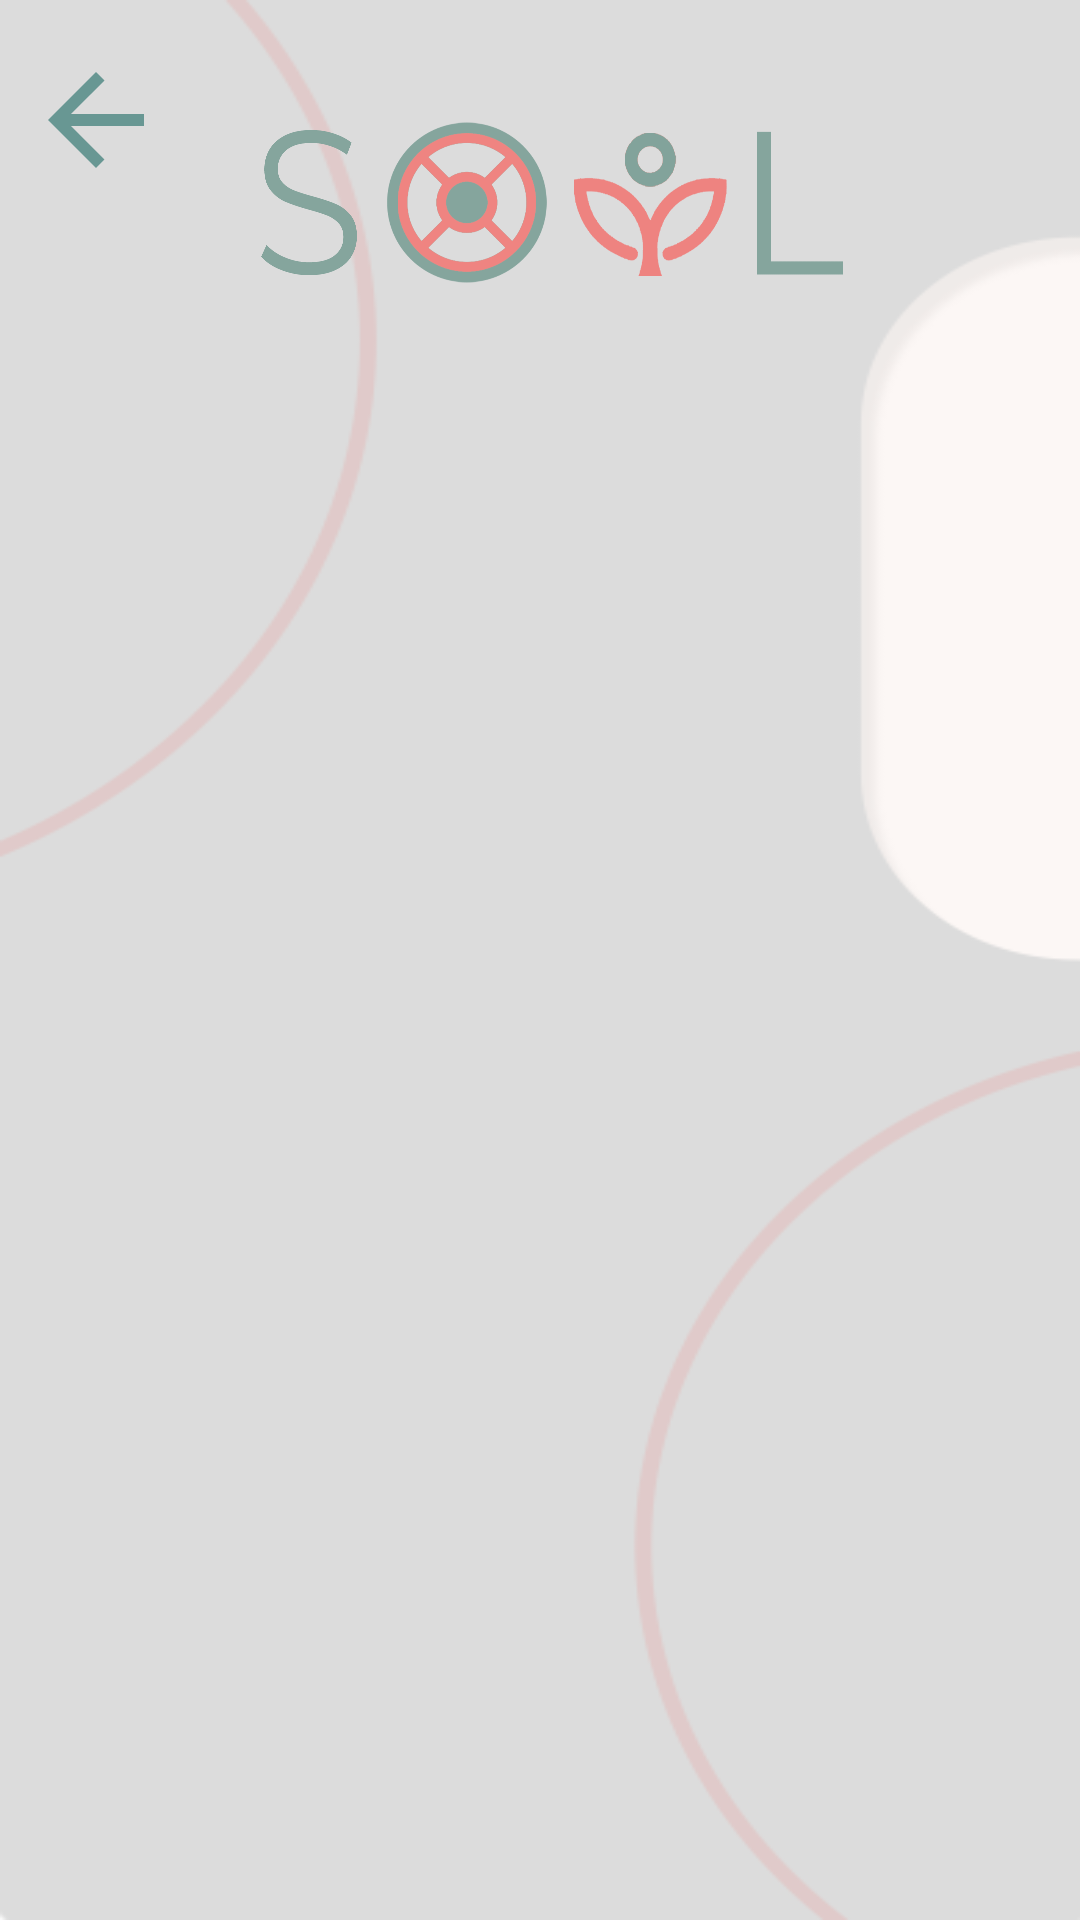

Screen size 1080 × 1920. Icon name, then its center in pixels as point (x, y):
back: point (96, 120)
